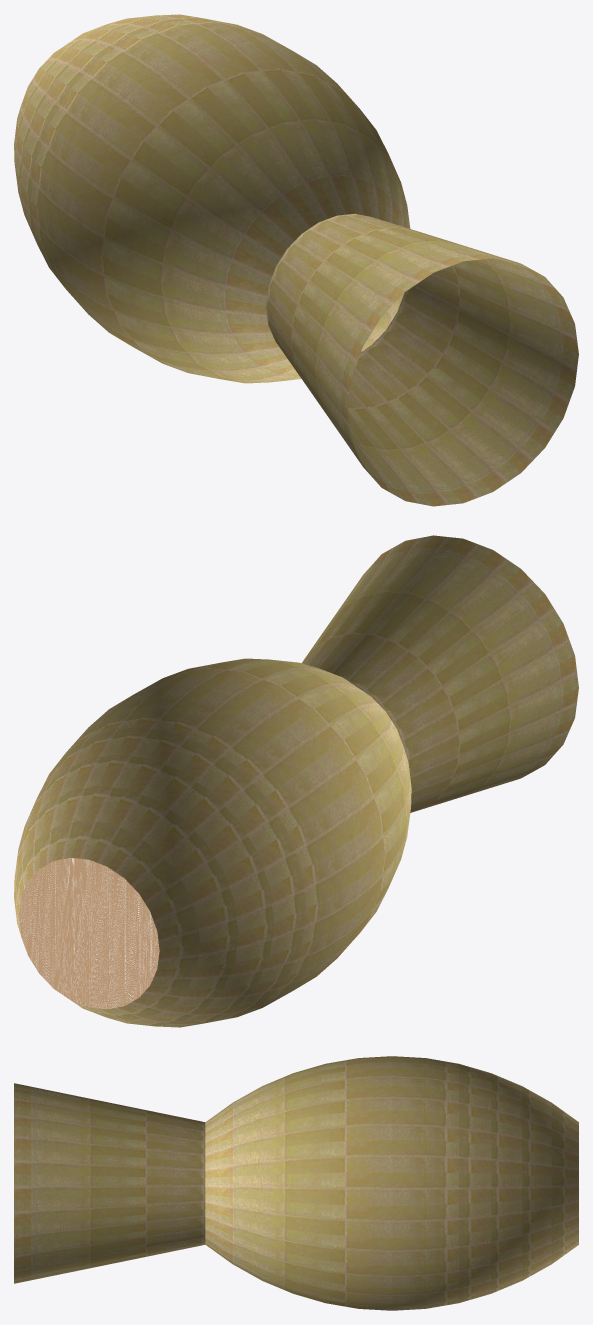
Rendered from model_align.obj.
3 renders of one model, top to bottom at view 1: azimuth 30°, elevation 25°; view 2: azimuth 150°, elevation 25°; view 3: azimuth 270°, elevation 25°, orthographic. The views are drawn at different scales.
Visible parts, largest first — view 1: mesh1_mesh1-geometry; view 2: mesh1_mesh1-geometry; view 3: mesh1_mesh1-geometry.
Boxes of the visible parts, bbox=[...] form: mesh1_mesh1-geometry: bbox=[14, 14, 578, 506]; mesh1_mesh1-geometry: bbox=[14, 535, 578, 1027]; mesh1_mesh1-geometry: bbox=[14, 1056, 578, 1310].
Size of the model in its own units: 0.0674 by 0.0674 by 0.1489.
3 materials, 1 textured.
